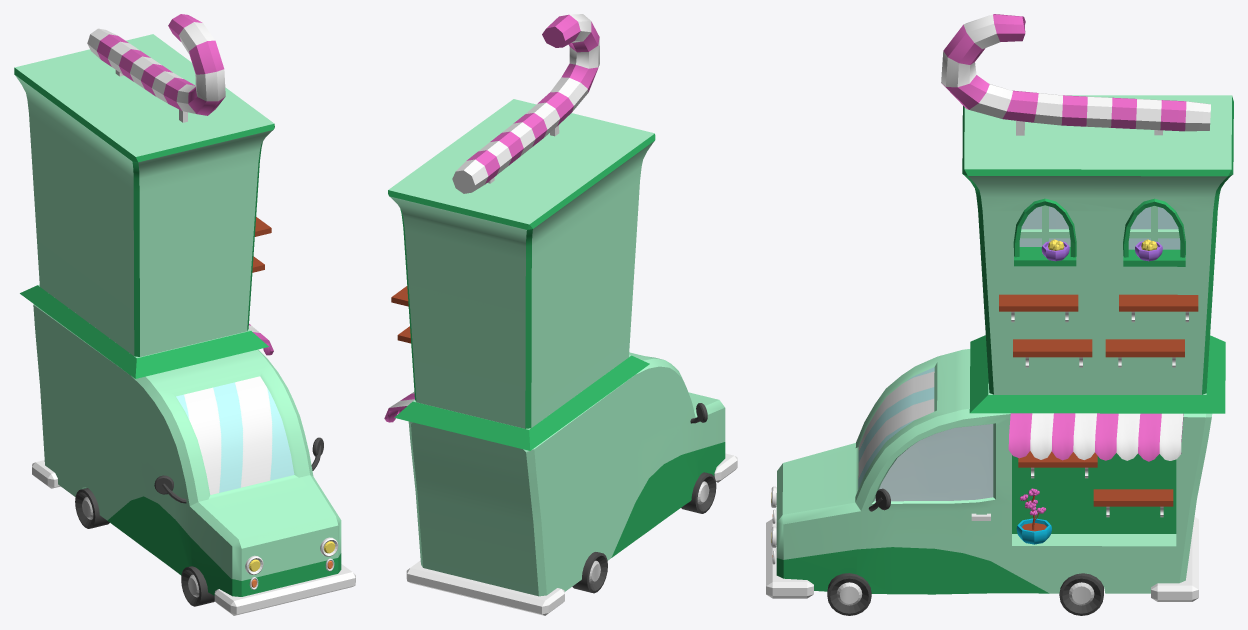
Rendered from candy shop.fbx.
The picture shows the model from 3 angles, left to right: view 1: azimuth 30°, elevation 25°; view 2: azimuth 150°, elevation 25°; view 3: azimuth 270°, elevation 25°; orthographic projection. The views are drawn at different scales.
Visible parts, largest first — view 1: body, candy, polySurface89, polySurface90; view 2: body, candy, polySurface90, polySurface89; view 3: body, candy, tent, polySurface49, polySurface50, polySurface88, polySurface54, polySurface87, polySurface47, polySurface48, flower2, polySurface53 (+1 smaller).
Boxes of the visible parts, x1,y1,x2,y2 form: body: (14, 34, 355, 615); candy: (87, 14, 225, 122); polySurface89: (181, 566, 214, 606); polySurface90: (75, 488, 109, 528); body: (388, 99, 737, 615); candy: (452, 14, 599, 193); polySurface90: (572, 552, 607, 593); polySurface89: (681, 472, 716, 513); body: (766, 95, 1233, 601); candy: (941, 14, 1210, 135); tent: (1008, 413, 1183, 461); polySurface49: (1013, 339, 1092, 367); polySurface50: (1105, 339, 1184, 367); polySurface88: (827, 573, 871, 615); polySurface54: (1093, 489, 1173, 517); polySurface87: (1059, 573, 1103, 615); polySurface47: (999, 294, 1078, 322); polySurface48: (1119, 294, 1198, 322); flower2: (1016, 488, 1051, 544); polySurface53: (1018, 451, 1097, 478).
Size of the model in its own units: 28.61 by 77.76 by 58.09.
1 material, 1 textured.
